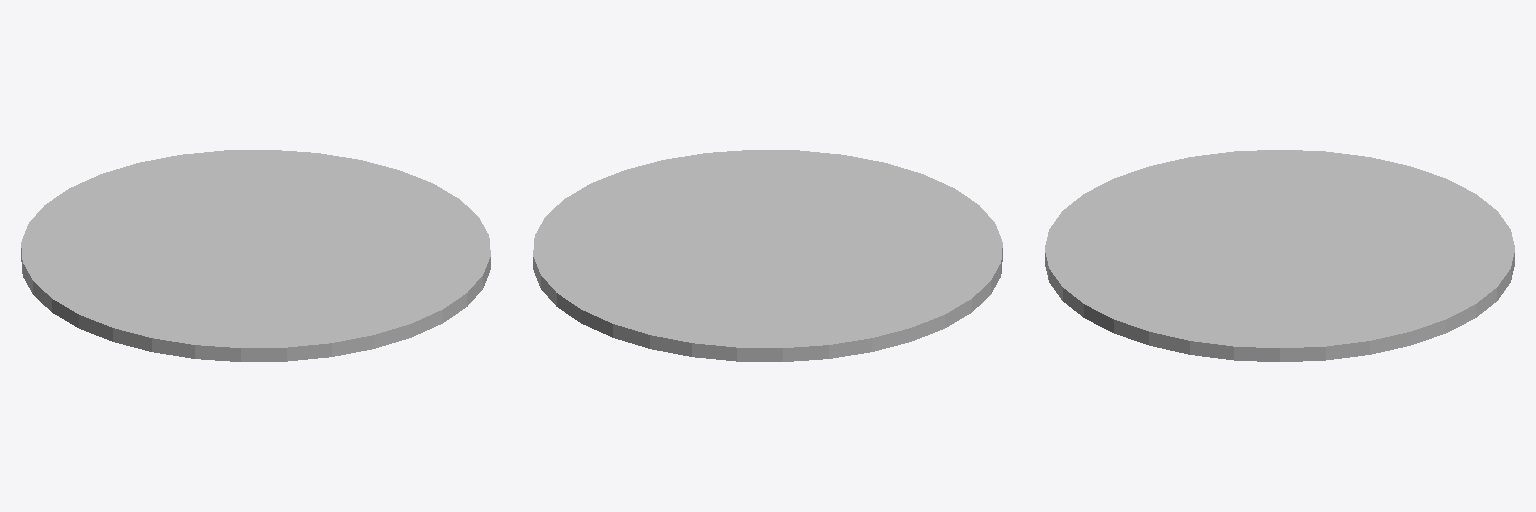
File: cloud.obj
The picture shows the model from 3 angles: view 1: azimuth 30°, elevation 25°; view 2: azimuth 150°, elevation 25°; view 3: azimuth 270°, elevation 25°; orthographic projection.
Parts seen in each view (by area): view 1: Cylinder_Cylinder.006; view 2: Cylinder_Cylinder.006; view 3: Cylinder_Cylinder.006.
Boxes of the visible parts, x1,y1,x2,y2 form: Cylinder_Cylinder.006: [21, 150, 490, 361]; Cylinder_Cylinder.006: [533, 150, 1002, 361]; Cylinder_Cylinder.006: [1045, 150, 1514, 361].
Size of the model in its own units: 5.9 by 0.1936 by 5.9.